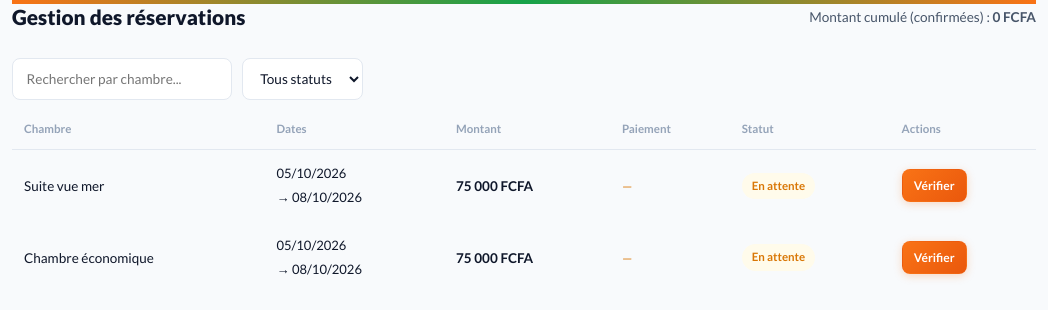
Scenario: ReservationsPage › filtre les réservations par titre de chambre
Expected: the table is shown, [12,120,1036,293]
Type "économique" into the field with placeholder "Rechercher par chambre..." at (122, 79), box [12,58,232,100]
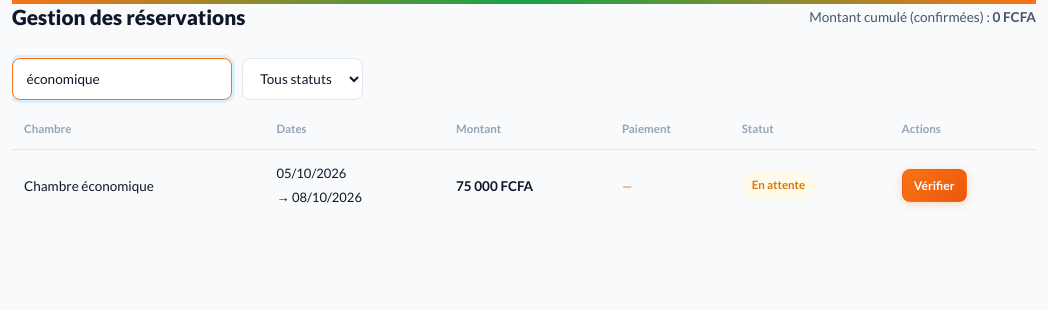
Expected: the text "Chambre économique" is shown, [12,150,264,221]
Result: the text "Suite vue mer" is gone
